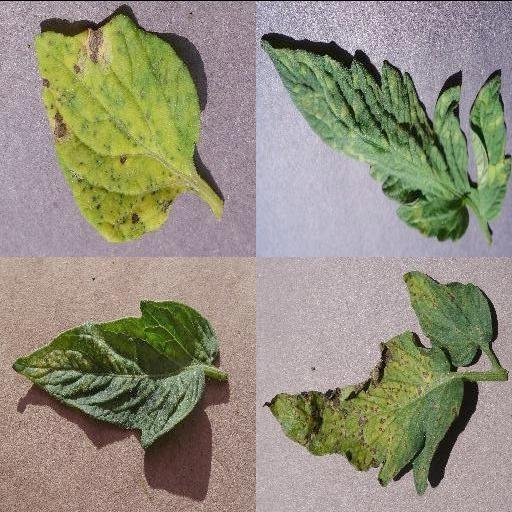Leaf Mold: (261, 41, 467, 241), (468, 73, 512, 217)
Septoria: (36, 14, 200, 238), (262, 331, 464, 497)
Spider Mites: (14, 299, 218, 449)
